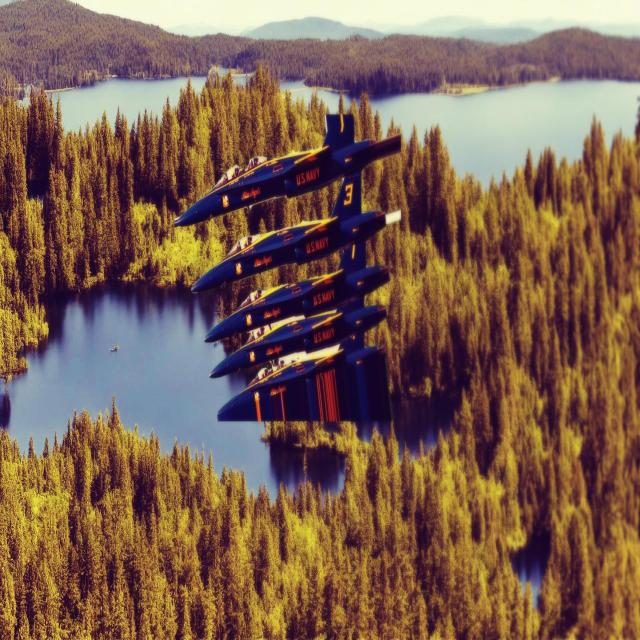airplane: (173, 111, 402, 228), (190, 173, 402, 293), (203, 242, 390, 343), (209, 349, 391, 428)
